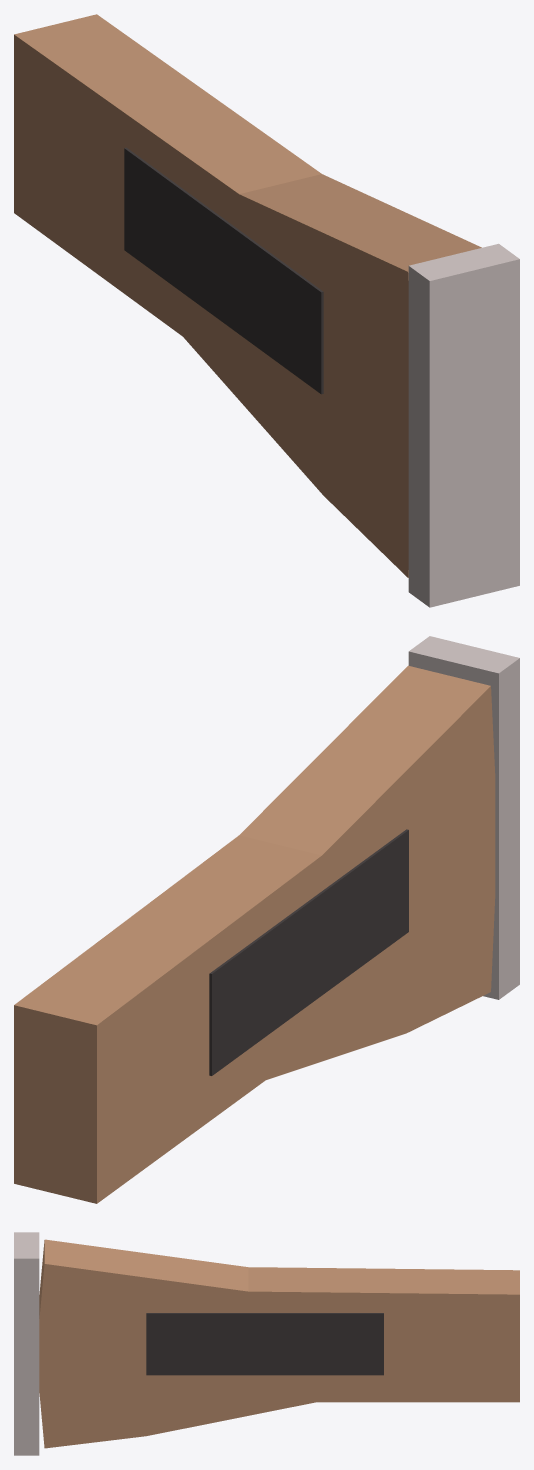
The model's file is assault_rifle_stock.glb.
3 renders of one model, top to bottom at view 1: azimuth 30°, elevation 25°; view 2: azimuth 150°, elevation 25°; view 3: azimuth 270°, elevation 25°, orthographic. The views are drawn at different scales.
Visible parts, largest first — view 1: stock; view 2: stock; view 3: stock.
Boxes of the visible parts, box(x1,y1,x2,y2) form: stock: box(14, 14, 519, 607); stock: box(14, 636, 519, 1203); stock: box(14, 1232, 519, 1455).
Bounding box in the file's own units: 0.037 × 0.128 × 0.298.
